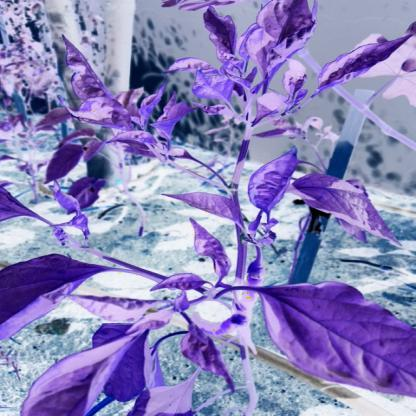Bell_pepper leaf: (257, 280, 415, 394), (2, 252, 138, 339)
